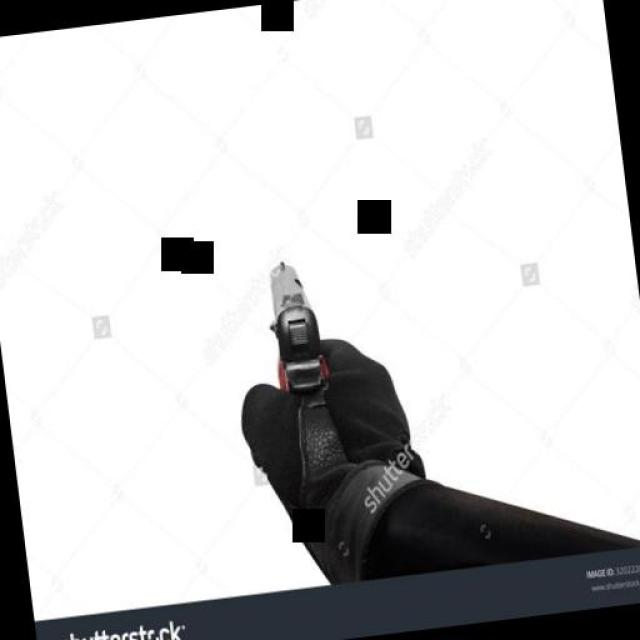gun: (258, 252, 334, 402)
